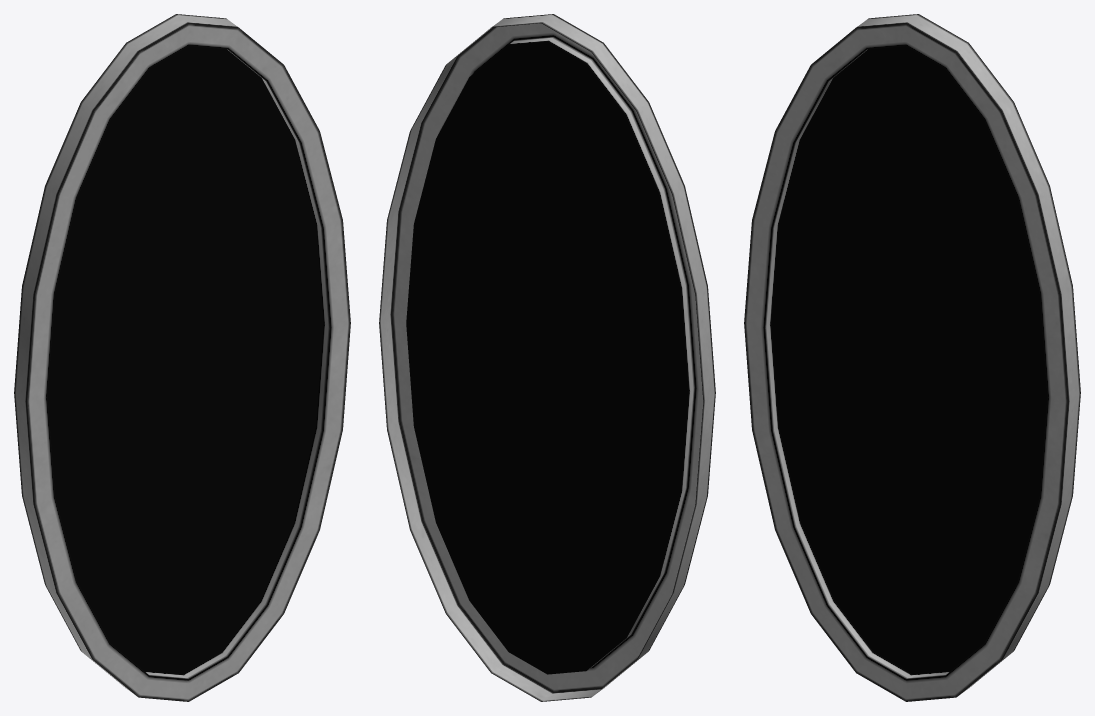
Rendered from RoundPainting.fbx.
3 views of the same model, side by side, from view 1: azimuth 30°, elevation 25°; view 2: azimuth 150°, elevation 25°; view 3: azimuth 330°, elevation 25° (orthographic).
Parts seen in each view (by area): view 1: RoundPainting(Image), RoundPainting; view 2: RoundPainting(Image), RoundPainting; view 3: RoundPainting(Image), RoundPainting.
Part boxes in pixels (x1,y1,x2,y2): RoundPainting(Image): [47, 46, 323, 674]; RoundPainting: [14, 14, 350, 701]; RoundPainting(Image): [406, 41, 688, 674]; RoundPainting: [379, 14, 715, 701]; RoundPainting(Image): [771, 46, 1047, 674]; RoundPainting: [744, 14, 1080, 701].
Bounding box in the file's own units: 74.44 × 149 × 5.
